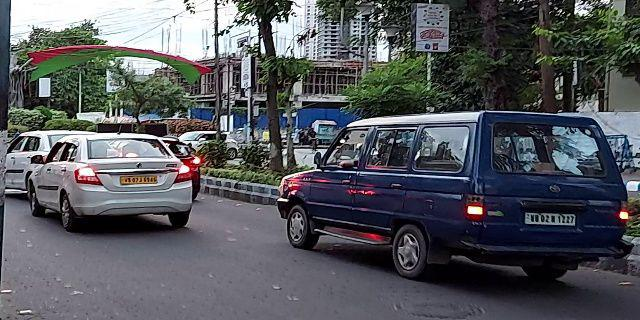Car: (272, 107, 635, 290), (20, 130, 193, 227)
